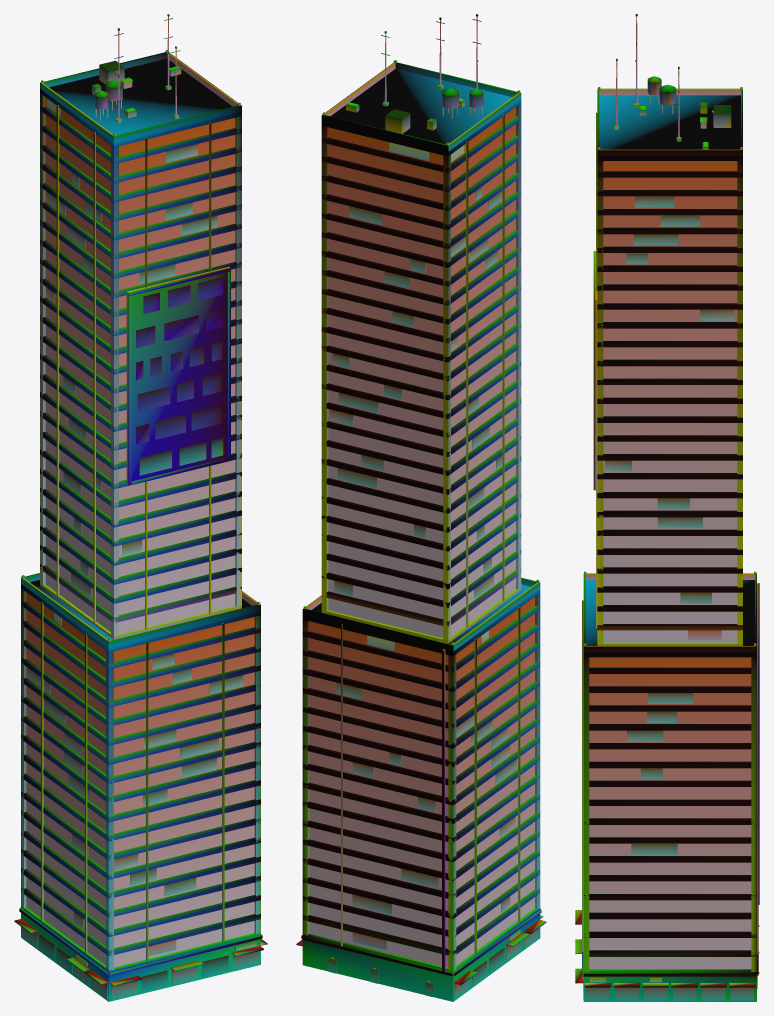
Rendered from Tower_Pad_V10.fbx.
The picture shows the model from 3 angles, left to right: view 1: azimuth 30°, elevation 25°; view 2: azimuth 150°, elevation 25°; view 3: azimuth 270°, elevation 25°; orthographic projection.
Parts seen in each view (by area): view 1: Tower_Pad_V10_LOD0; view 2: Tower_Pad_V10_LOD0; view 3: Tower_Pad_V10_LOD0.
Part boxes in pixels (x1,y1,x2,y2): Tower_Pad_V10_LOD0: [14, 14, 267, 1001]; Tower_Pad_V10_LOD0: [296, 14, 546, 1001]; Tower_Pad_V10_LOD0: [575, 14, 759, 1001].
Size of what is drawn, in the model's own units: 32.8 by 178 by 31.83.
